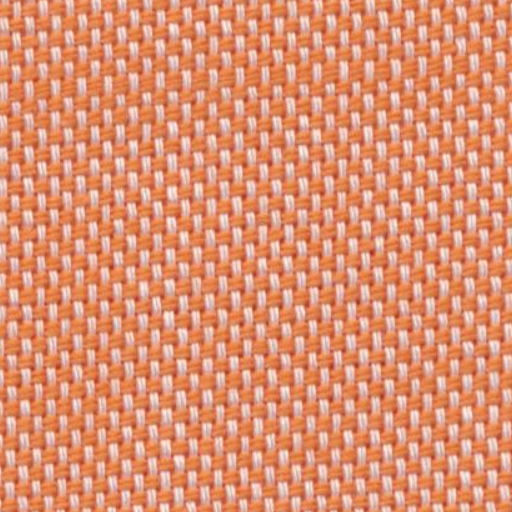TuoSha: (16, 38, 496, 146)
